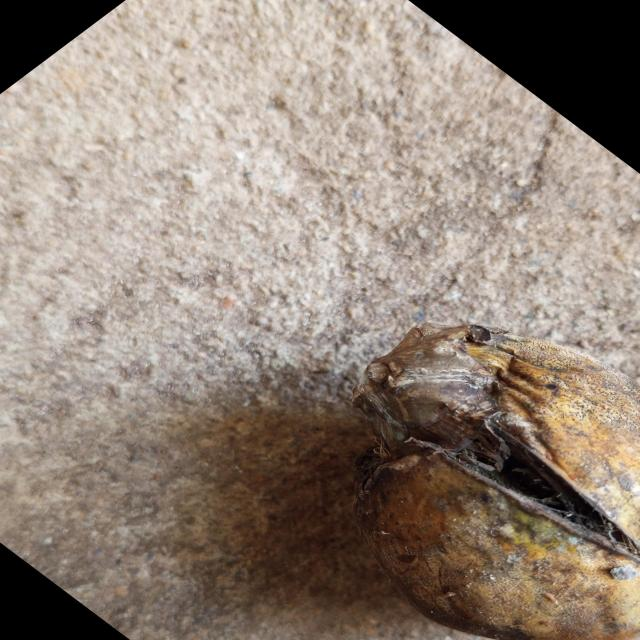damaged: (352, 322, 640, 640)
